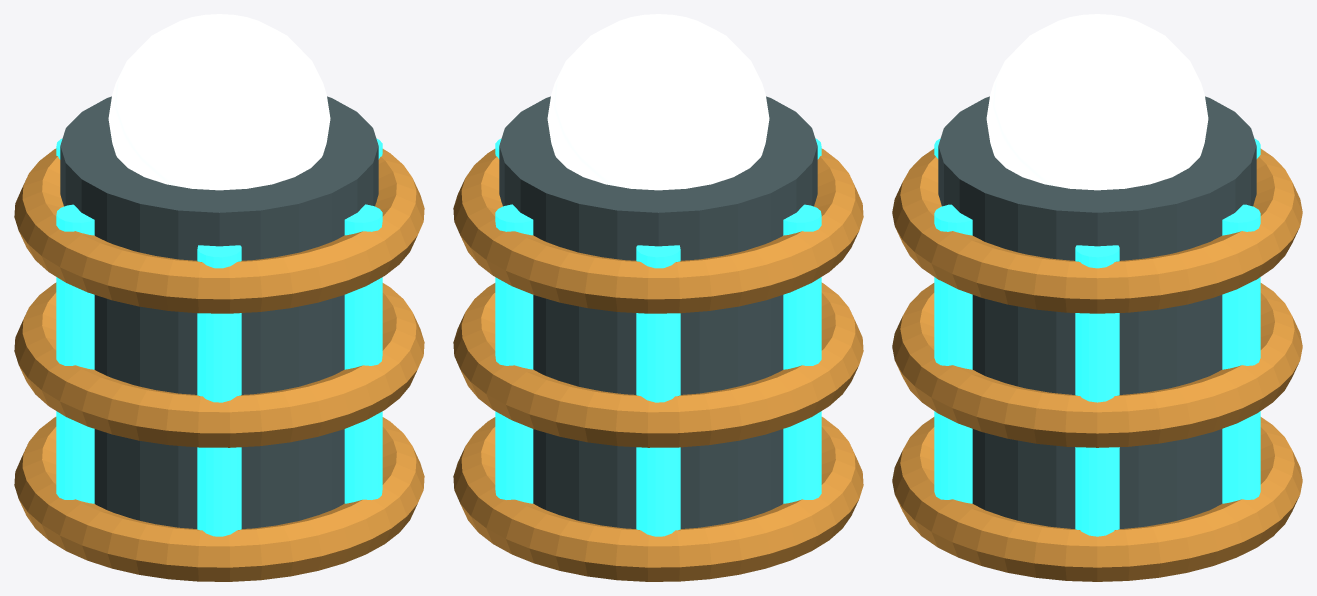
Rendered from core.glb.
The picture shows the model from 3 angles, left to right: view 1: azimuth 30°, elevation 25°; view 2: azimuth 150°, elevation 25°; view 3: azimuth 270°, elevation 25°; orthographic projection.
Visible parts, largest first — view 1: core_Safety ochre, core_Titanium, core_Light, core_Bio; view 2: core_Safety ochre, core_Titanium, core_Light, core_Bio; view 3: core_Safety ochre, core_Titanium, core_Light, core_Bio.
Boxes of the visible parts, <box> form: core_Safety ochre: <box>14,148,424,581</box>; core_Titanium: <box>60,96,378,528</box>; core_Light: <box>108,14,330,190</box>; core_Bio: <box>56,138,382,536</box>; core_Safety ochre: <box>453,148,863,581</box>; core_Titanium: <box>499,96,817,528</box>; core_Light: <box>547,14,769,190</box>; core_Bio: <box>495,138,821,536</box>; core_Safety ochre: <box>892,148,1302,581</box>; core_Titanium: <box>938,96,1256,528</box>; core_Light: <box>986,14,1208,190</box>; core_Bio: <box>934,138,1260,536</box>.
Bounding box in the file's own units: 1.11 × 1.46 × 1.11.
